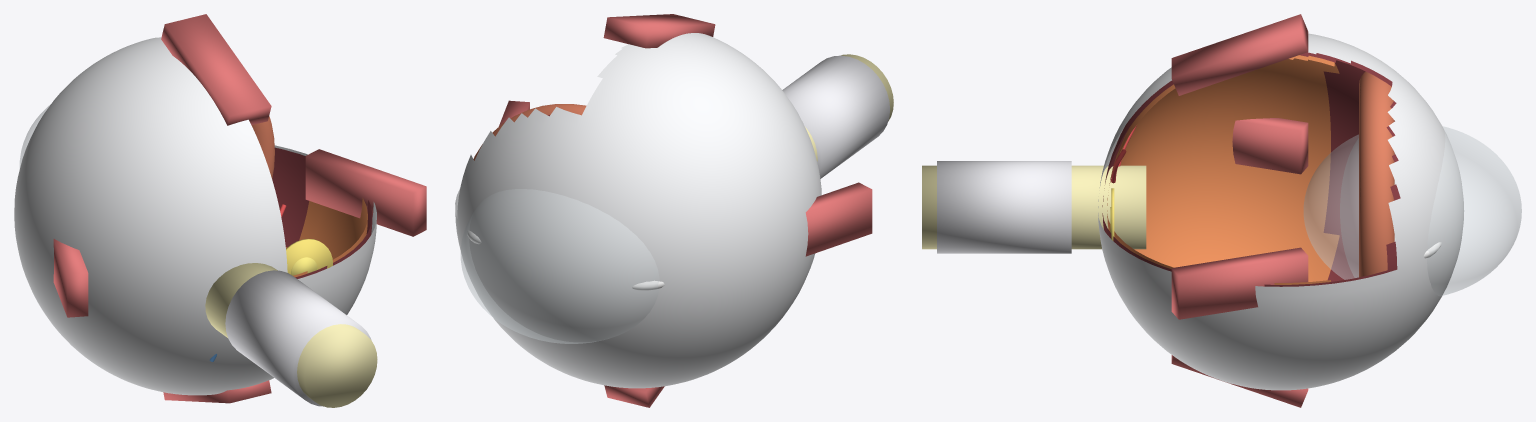
File: eye_realistic.glb
3 renders of one model, left to right at view 1: azimuth 30°, elevation 25°; view 2: azimuth 150°, elevation 25°; view 3: azimuth 270°, elevation 25°, orthographic.
Visible parts, largest first — view 1: Sclera, Dural_Sheath, Optic_Nerve, Medial_Rectus, Superior_Rectus, Choroid, Retina, Lateral_Rectus, Inferior_Rectus, Macula_Lutea, Ciliary_Body; view 2: Sclera, Cornea, Dural_Sheath, Lateral_Rectus, Superior_Rectus, Inferior_Rectus, Ciliary_Body, Optic_Nerve; view 3: Sclera, Retina, Cornea, Dural_Sheath, Choroid, Optic_Nerve, Ciliary_Body, Medial_Rectus, Superior_Rectus, Lateral_Rectus, Crystalline_Lens, Inferior_Rectus.
Boxes of the visible parts, x1,y1,x2,y2 form: Sclera: [14, 37, 376, 395]; Dural_Sheath: [225, 270, 371, 406]; Optic_Nerve: [205, 263, 377, 407]; Medial_Rectus: [305, 149, 426, 236]; Superior_Rectus: [161, 14, 271, 125]; Choroid: [272, 147, 372, 278]; Retina: [286, 198, 367, 277]; Lateral_Rectus: [53, 239, 88, 317]; Inferior_Rectus: [163, 380, 271, 403]; Macula_Lutea: [286, 238, 332, 274]; Ciliary_Body: [251, 116, 274, 178]; Sclera: [455, 33, 821, 388]; Cornea: [460, 189, 659, 343]; Dural_Sheath: [782, 55, 889, 178]; Lateral_Rectus: [805, 182, 872, 256]; Superior_Rectus: [603, 14, 715, 48]; Inferior_Rectus: [604, 385, 664, 407]; Ciliary_Body: [473, 104, 586, 160]; Optic_Nerve: [805, 54, 893, 161]; Sclera: [1098, 33, 1464, 390]; Retina: [1107, 55, 1339, 284]; Cornea: [1303, 126, 1521, 295]; Dural_Sheath: [937, 161, 1071, 253]; Choroid: [1102, 52, 1400, 286]; Optic_Nerve: [922, 165, 1146, 249]; Ciliary_Body: [1359, 71, 1394, 277]; Medial_Rectus: [1171, 247, 1308, 319]; Superior_Rectus: [1171, 14, 1308, 95]; Lateral_Rectus: [1232, 118, 1308, 174]; Crystalline_Lens: [1340, 138, 1395, 277]; Inferior_Rectus: [1171, 355, 1308, 407].
Bounding box in the file's own units: 5.51 × 5.51 × 8.02.
